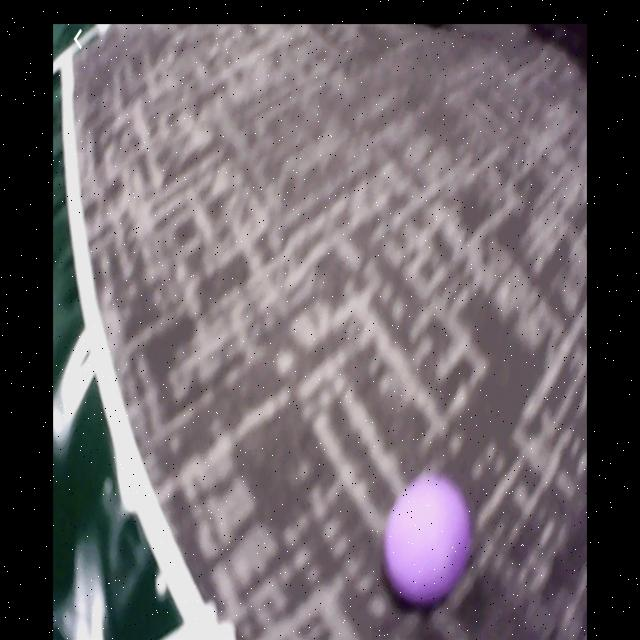ball: (381, 478, 472, 598)
